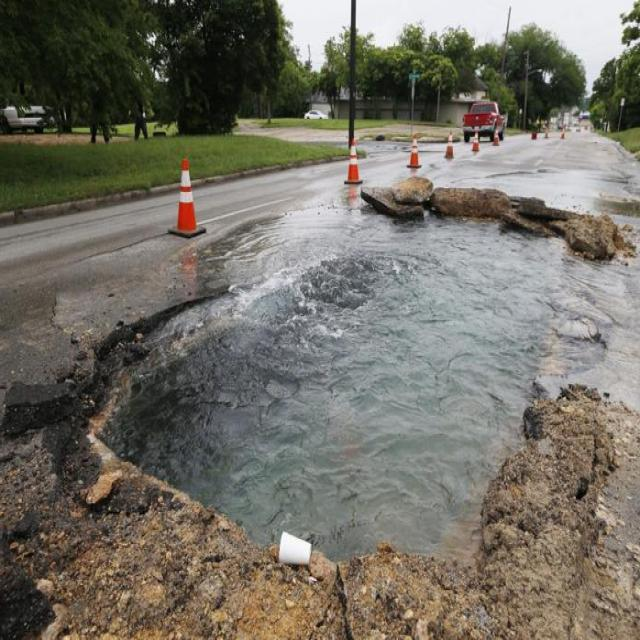water_leak: (108, 229, 639, 556)
